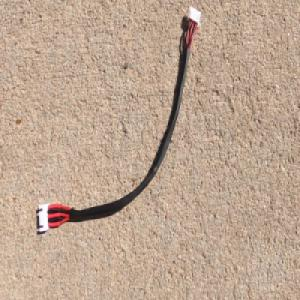Wire: (38, 7, 204, 233)
